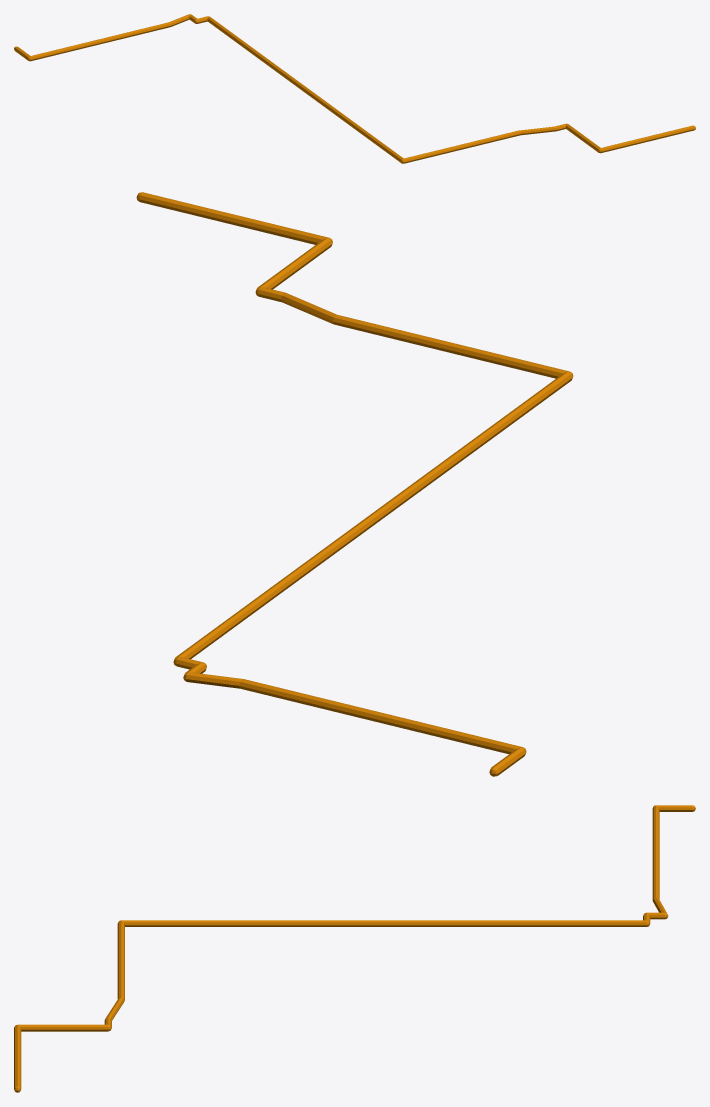
3 views of the same model, one above another, from view 1: azimuth 30°, elevation 25°; view 2: azimuth 150°, elevation 25°; view 3: azimuth 270°, elevation 25° (orthographic). The views are drawn at different scales.
Bounding box in the file's own units: 1853 × 20 × 1882.
